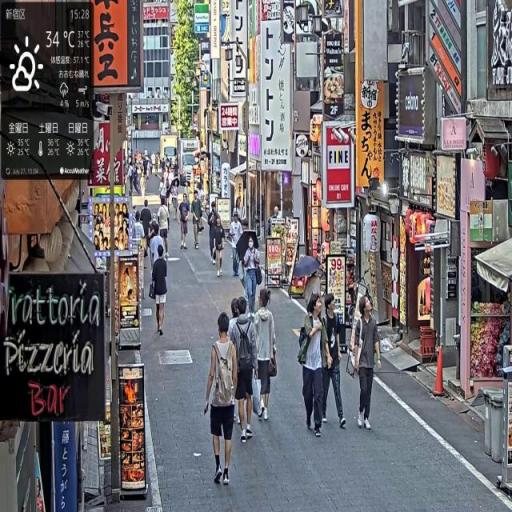person: (204, 313, 240, 487), (297, 287, 332, 437), (350, 293, 384, 433), (228, 295, 259, 446), (321, 293, 350, 431), (253, 290, 280, 423), (242, 232, 263, 319), (152, 244, 168, 337), (229, 212, 244, 283), (214, 215, 227, 280), (158, 199, 171, 257), (179, 192, 192, 249), (208, 200, 219, 267), (192, 190, 204, 251)
